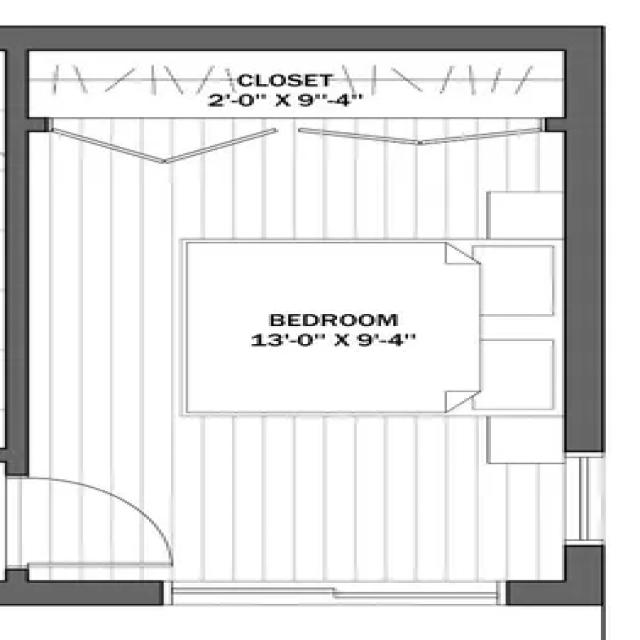Doors: (0, 473, 182, 573)
